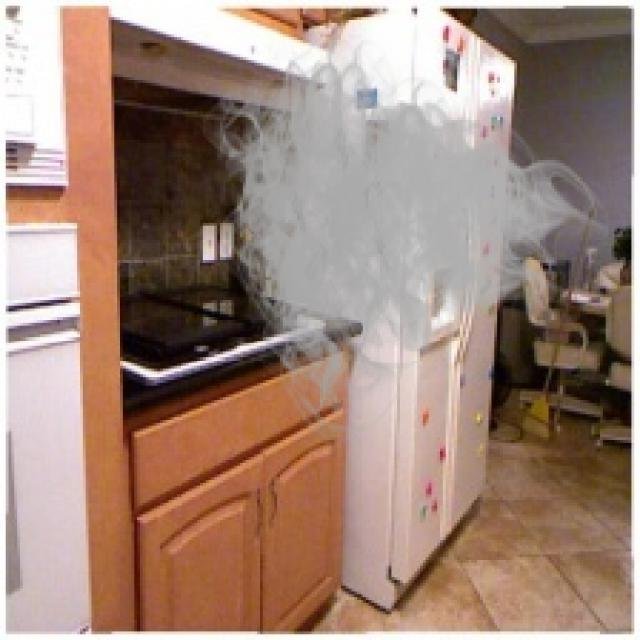smoke: (192, 23, 608, 448)
